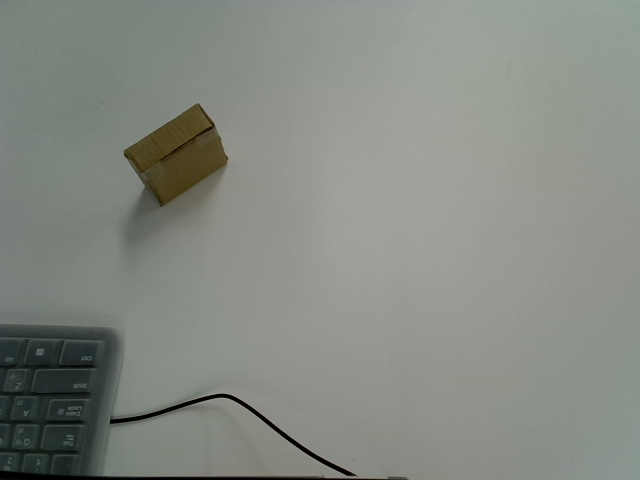normal: (124, 102, 229, 207)
